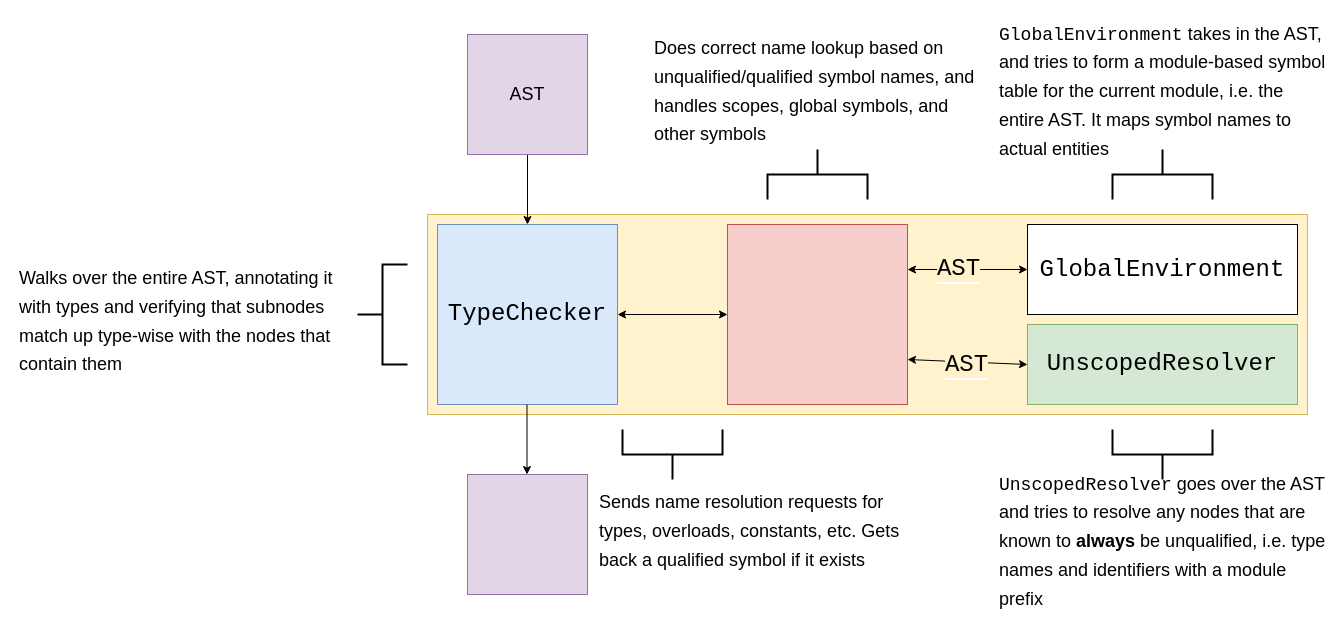
This 1344x628 diagram has some shape labels left out. The box of each missing label's shape, as (x1, y1, x2, y2) in pixels:
NameResolver: (726, 224, 908, 404)
Type-Annotated AST: (466, 474, 588, 594)
